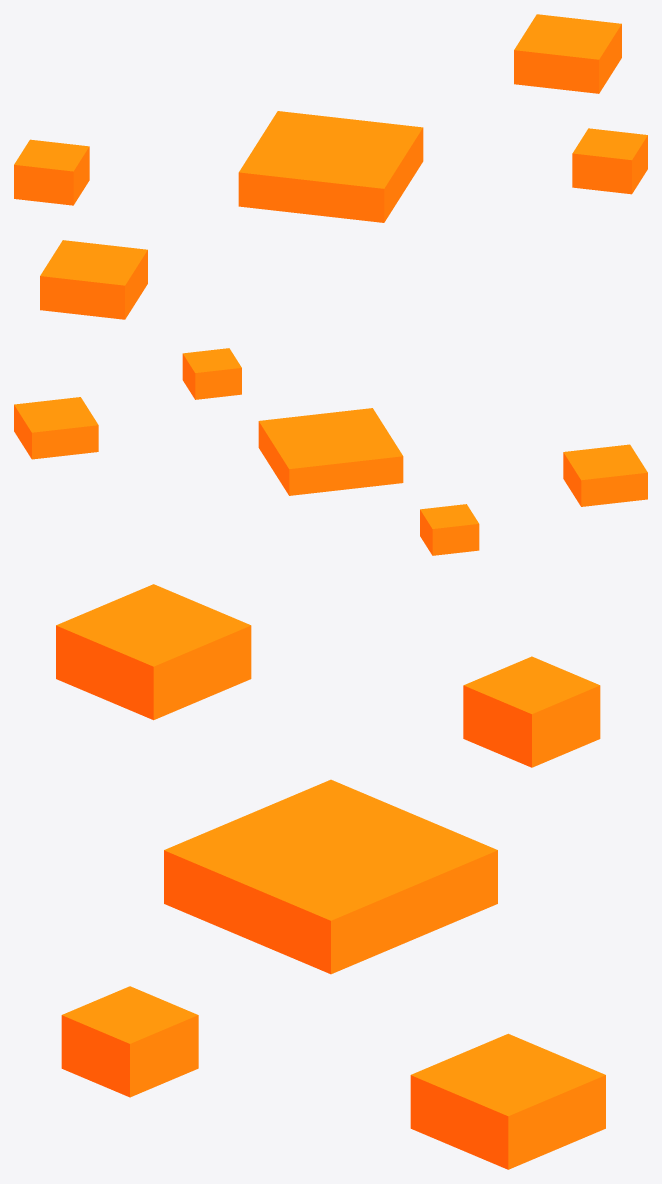
Rendered from Box Level.fbx.
The picture shows the model from 3 angles, top to bottom: view 1: azimuth 30°, elevation 25°; view 2: azimuth 150°, elevation 25°; view 3: azimuth 270°, elevation 25°; orthographic projection. The views are drawn at different scales.
Parts seen in each view (by area): view 1: Plane.005, Plane.006, Plane.009, Plane.007, Plane.008; view 2: Plane.005, Plane.006, Plane.009, Plane.007, Plane.008; view 3: Plane.005, Plane.006, Plane.009, Plane.007, Plane.008.
Boxes of the visible parts, x1=… form: Plane.005: x1=238, y1=111, x2=423, y2=222; Plane.006: x1=40, y1=240, x2=147, y2=319; Plane.009: x1=514, y1=14, x2=621, y2=93; Plane.007: x1=14, y1=139, x2=89, y2=205; Plane.008: x1=572, y1=128, x2=647, y2=194; Plane.005: x1=258, y1=408, x2=403, y2=495; Plane.006: x1=563, y1=444, x2=647, y2=506; Plane.009: x1=14, y1=397, x2=98, y2=459; Plane.007: x1=420, y1=504, x2=479, y2=555; Plane.008: x1=182, y1=348, x2=241, y2=399; Plane.005: x1=164, y1=779, x2=497, y2=974; Plane.006: x1=56, y1=584, x2=251, y2=720; Plane.009: x1=410, y1=1033, x2=605, y2=1169; Plane.007: x1=463, y1=656, x2=600, y2=767; Plane.008: x1=61, y1=986, x2=198, y2=1097.
Size of the model in its own units: 533 by 25 by 233.
